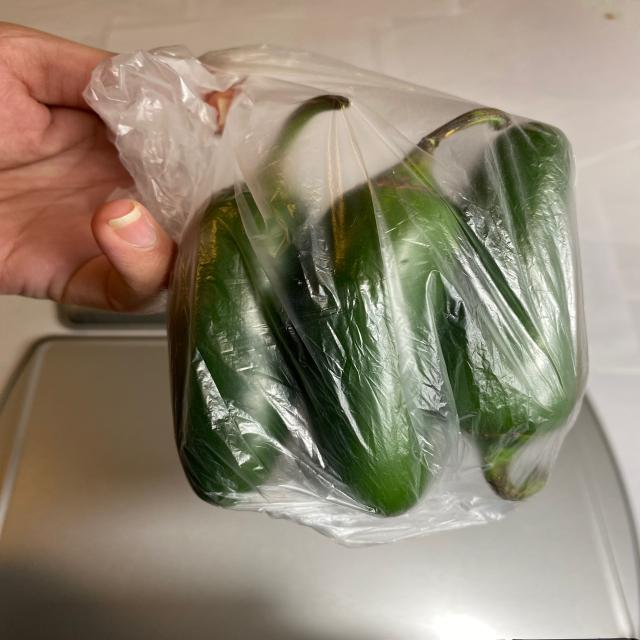chilli: (148, 77, 592, 524)
